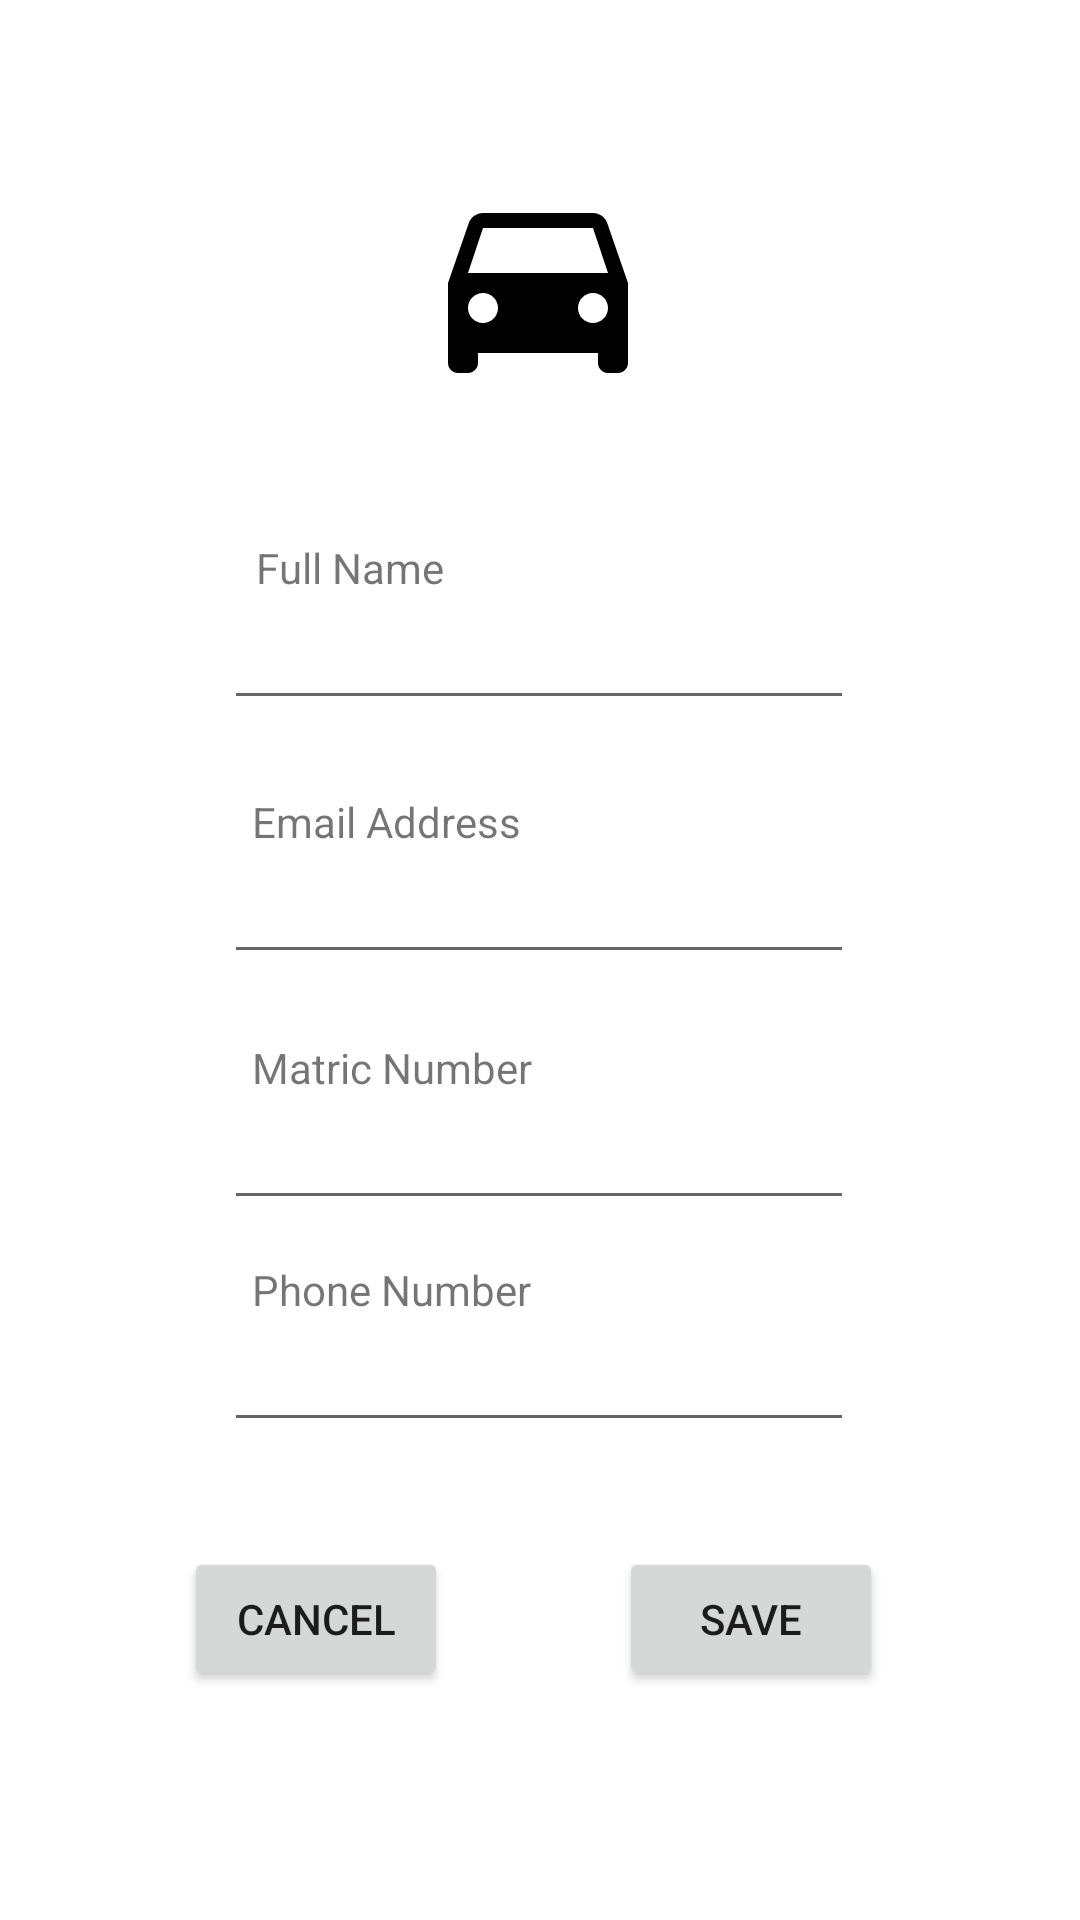

Where icons sit on this 1080×1920 app screen, as (x1, y1, x2, y2):
directions car: (448, 213, 628, 373)
